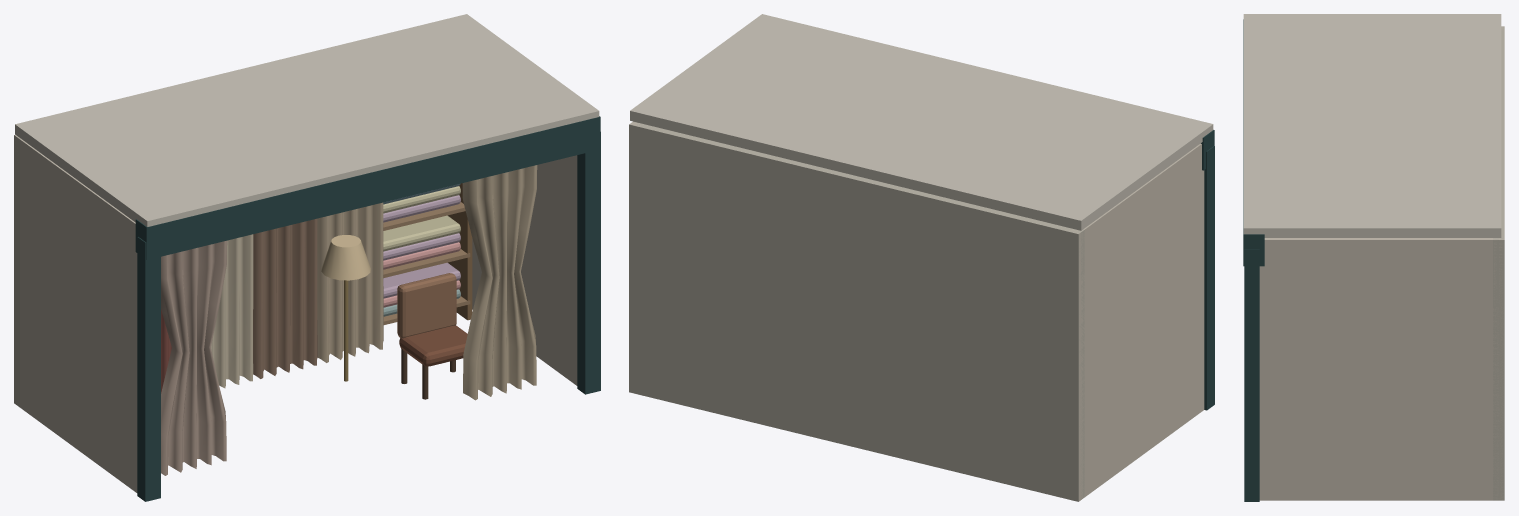
File: Curtains.glb
The picture shows the model from 3 angles, left to right: view 1: azimuth 30°, elevation 25°; view 2: azimuth 150°, elevation 25°; view 3: azimuth 270°, elevation 25°; orthographic projection. The views are drawn at different scales.
Visible parts, largest first — view 1: Curtains; view 2: Curtains; view 3: Curtains.
Boxes of the visible parts, x1=… form: Curtains: x1=14, y1=14, x2=600, y2=501; Curtains: x1=629, y1=14, x2=1214, y2=501; Curtains: x1=1243, y1=14, x2=1504, y2=501.
Bounding box in the file's own units: 5.26 × 3.1 × 2.69.
